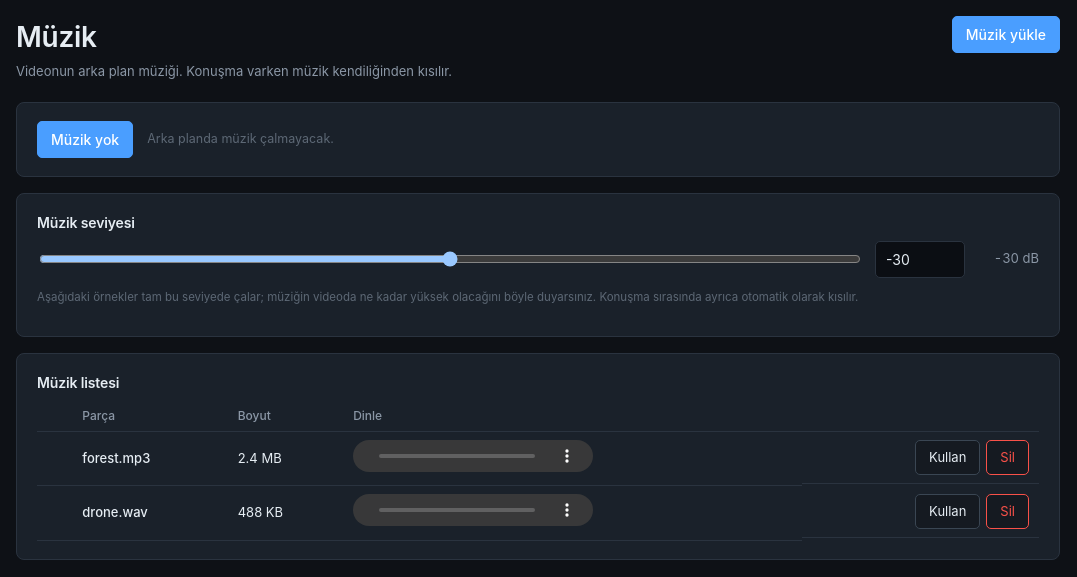
Test: MusicPage › exposes a music level control that edits the project and shows the level
Expected: the text "forest.mp3" is shown, left=72, top=431, right=228, bottom=486
Expected: the heading "Müzik seviyesi" is shown, left=37, top=214, right=135, bottom=230
Replace the text in the number field named "Müzik seviyesi (desibel)" with "-20" at (920, 259), box left=875, top=240, right=965, bottom=278
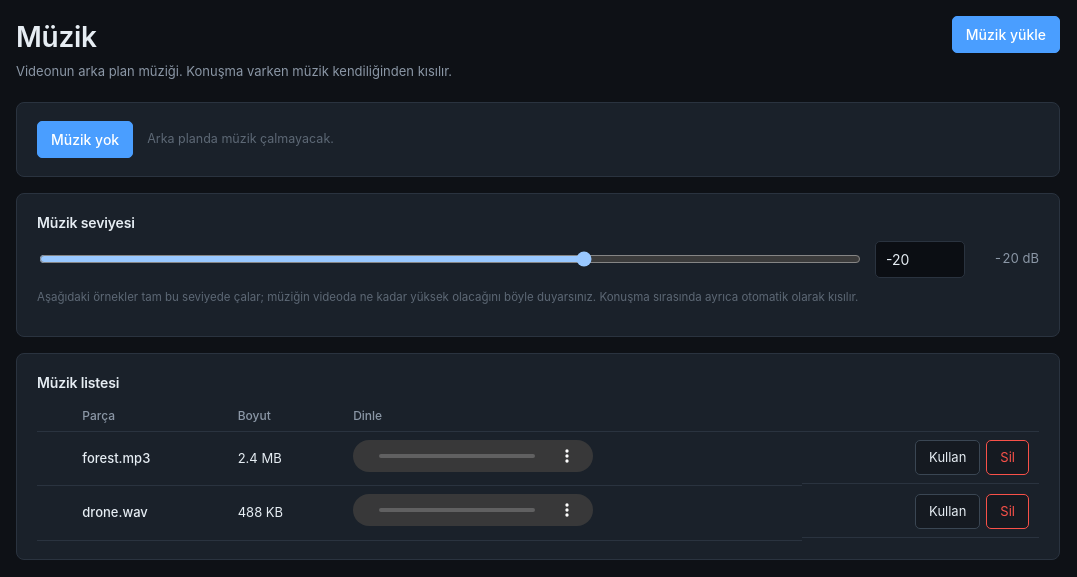
Expected: the text "-20 dB" is shown, left=994, top=250, right=1039, bottom=266
